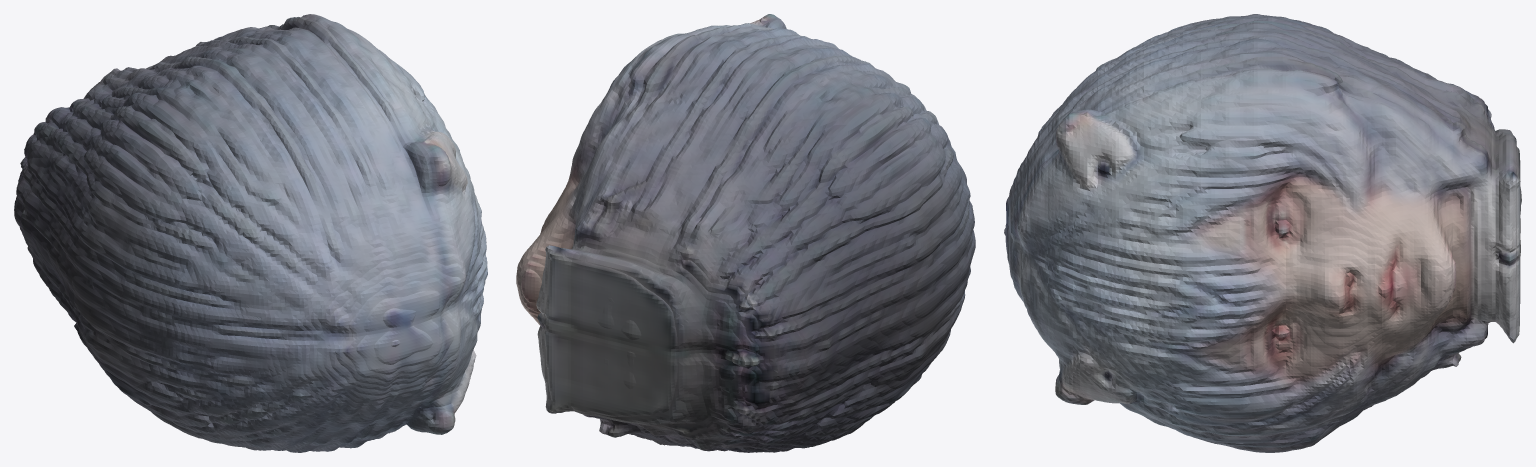
3 renders of one model, left to right at view 1: azimuth 30°, elevation 25°; view 2: azimuth 150°, elevation 25°; view 3: azimuth 270°, elevation 25°, orthographic.
Visible parts, largest first — view 1: world; view 2: world; view 3: world.
Boxes of the visible parts, x1=… form: world: x1=14, y1=14, x2=487, y2=452; world: x1=516, y1=14, x2=975, y2=452; world: x1=1004, y1=14, x2=1521, y2=452.
Size of the model in its own units: 0.7825 by 0.8311 by 0.995.
